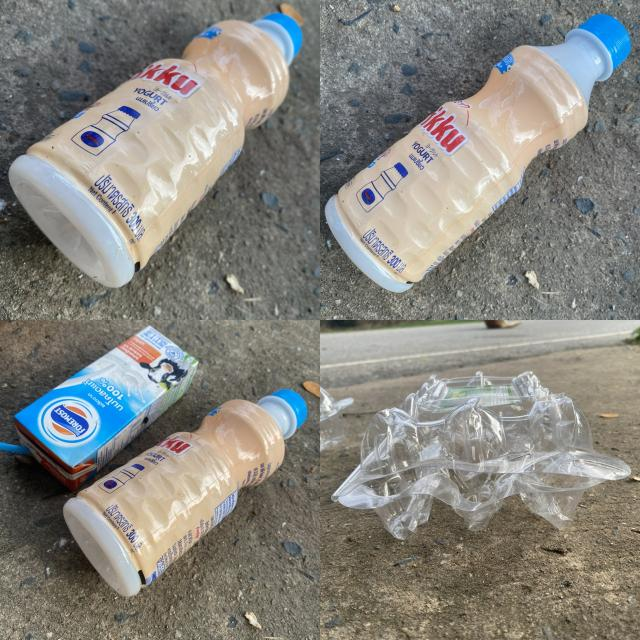HDPE Plastic: (325, 14, 631, 292), (9, 12, 302, 288), (65, 389, 308, 596)
Single-Use-Plastic: (331, 372, 630, 539)
